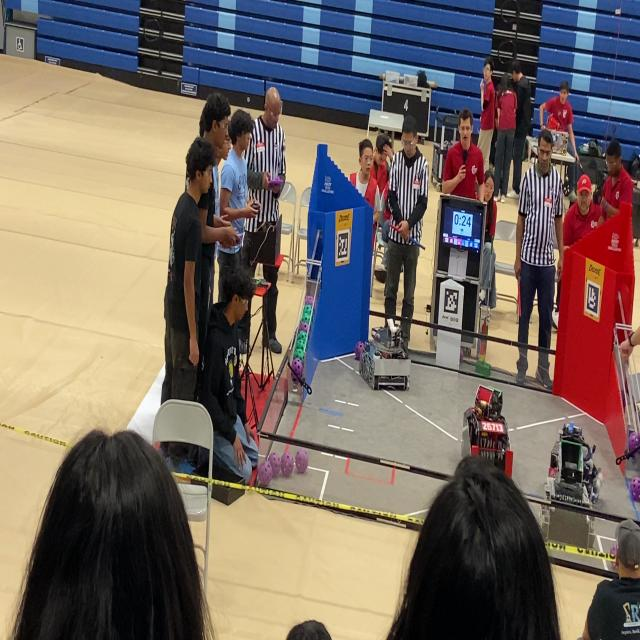artifact_green: (294, 348, 304, 360), (302, 311, 311, 323), (296, 341, 305, 352), (298, 331, 307, 340), (297, 336, 306, 345), (303, 305, 312, 312)
artifact_purple: (258, 460, 273, 486), (295, 448, 309, 474), (281, 451, 294, 478), (267, 452, 280, 477), (292, 358, 303, 378), (628, 432, 639, 452), (630, 477, 639, 501), (355, 341, 364, 360), (299, 322, 308, 333), (305, 296, 313, 306), (610, 544, 616, 555)
